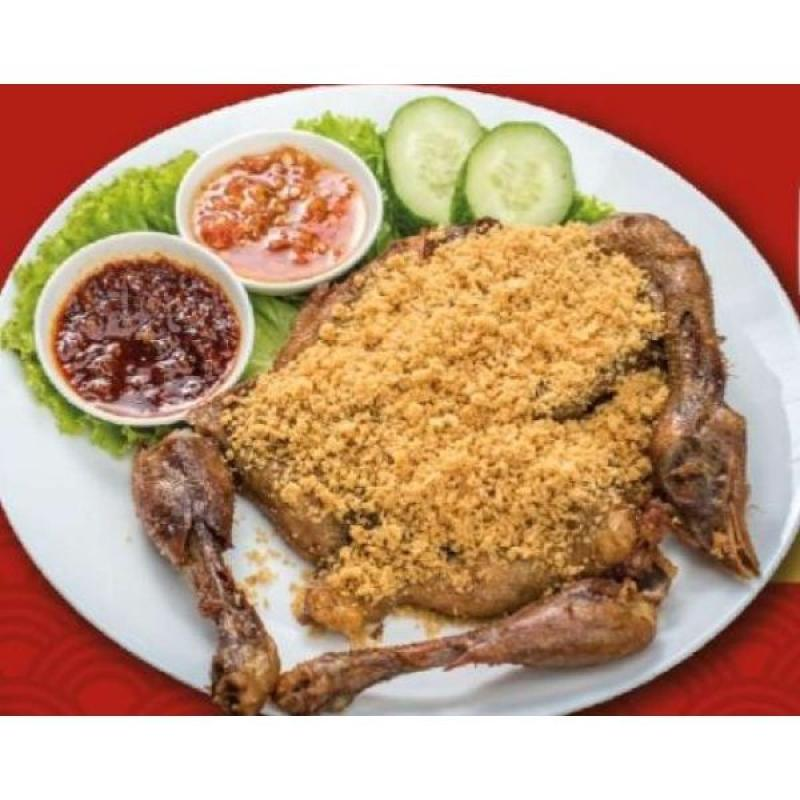Ayam: (77, 436, 275, 707), (352, 590, 674, 722)
